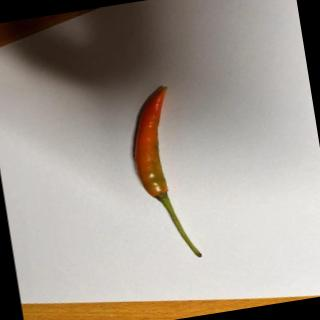Cabai Merah: (123, 84, 204, 267)
